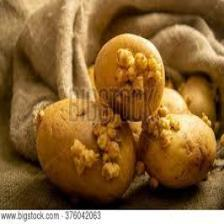Sprouted potato: (33, 94, 140, 202), (138, 110, 218, 192), (95, 30, 163, 116)
